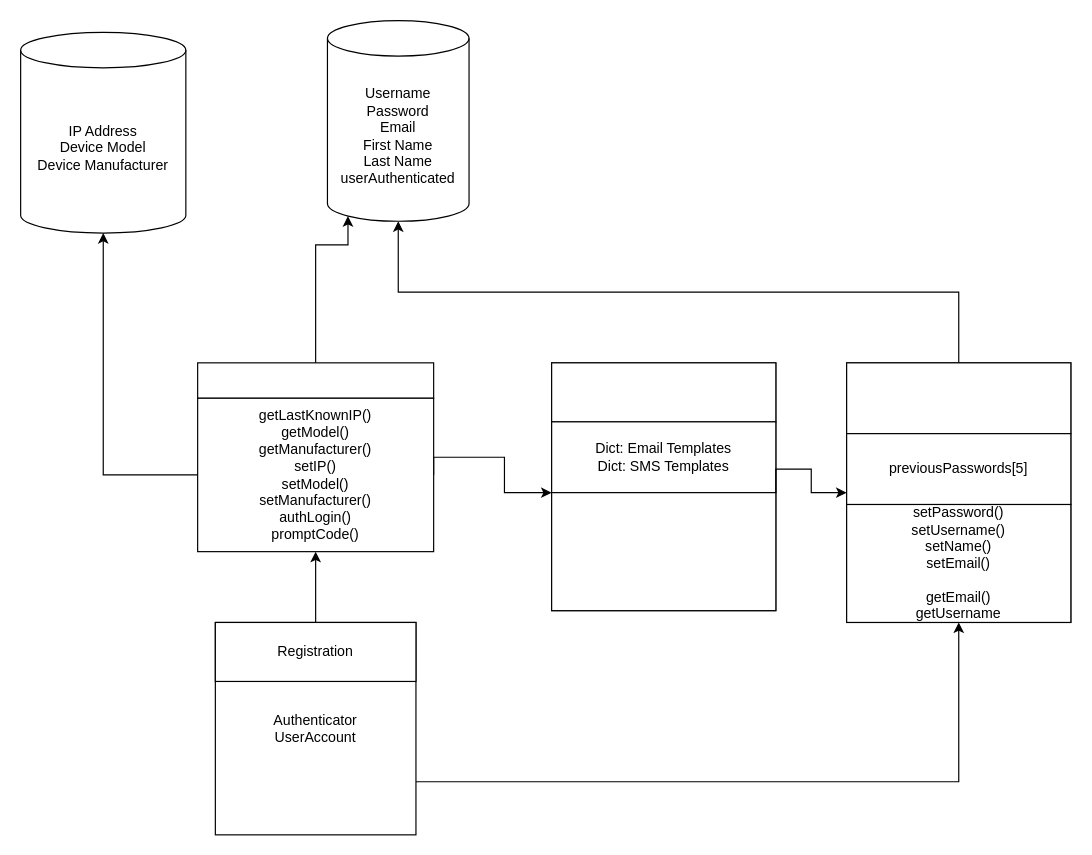
Some shapes in this 1092 by 855 pixel diagram are drawn without their labels. Each missing label, with the centre of its shape:
"Authenticator" belongs at pixel 315 380.
"Notification Handler" belongs at pixel 663 392.
"sendEmail() sendSMS()" belongs at pixel 663 551.
"User Account" belongs at pixel 958 398.
